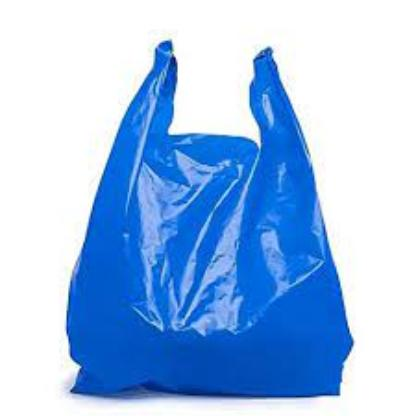Plastic Bag: (67, 43, 353, 396)
